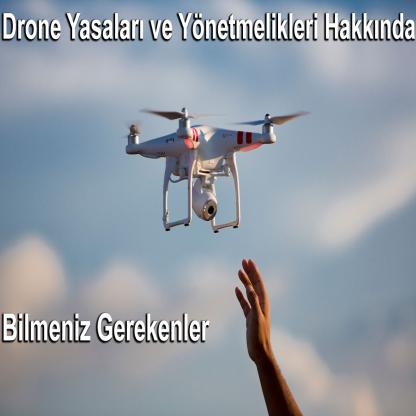drone: (113, 98, 306, 198)
